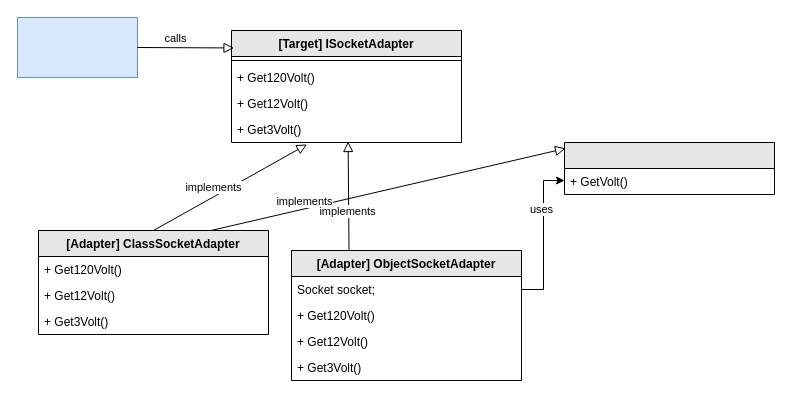
Image size: 792x401. Some labels were removed from this diagram. The shapes that lost their labels are listed below. From the top down, each one's box as (x1, y1, x2, y2) in pixels, then its label:
(16, 16, 138, 78): Client
(564, 142, 774, 194): [Adaptee] Socket
